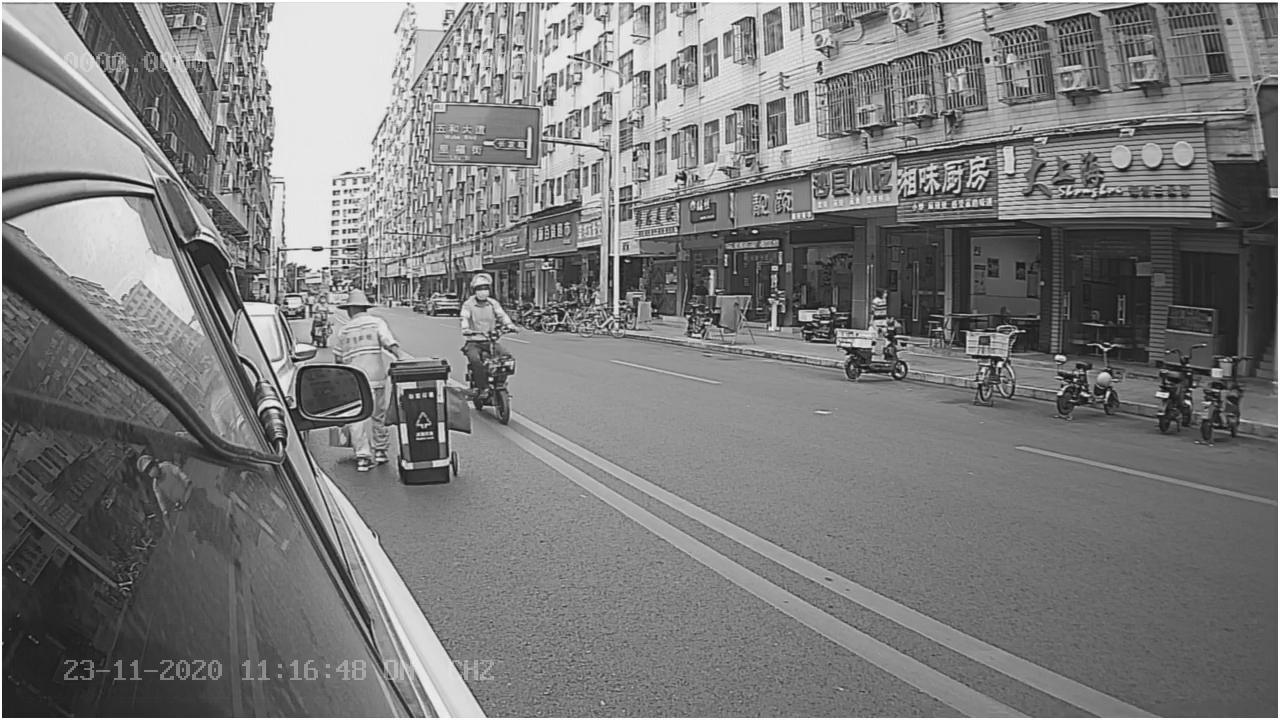person: (328, 284, 415, 359)
